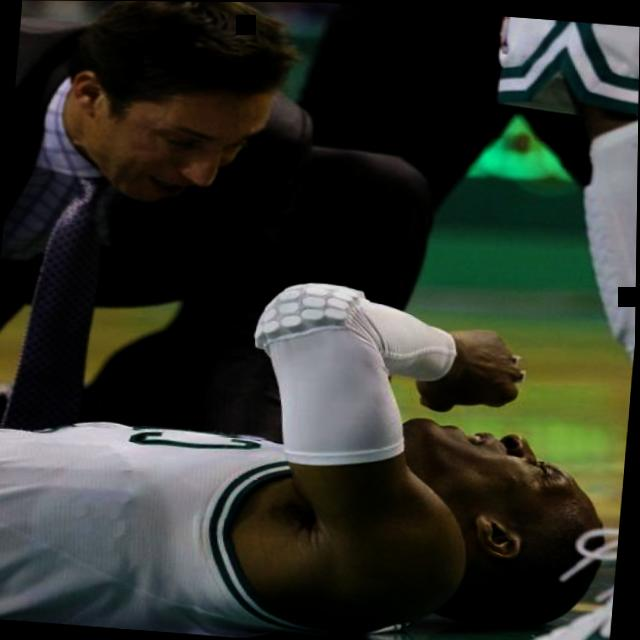Fall-Detected: (0, 247, 630, 640)
